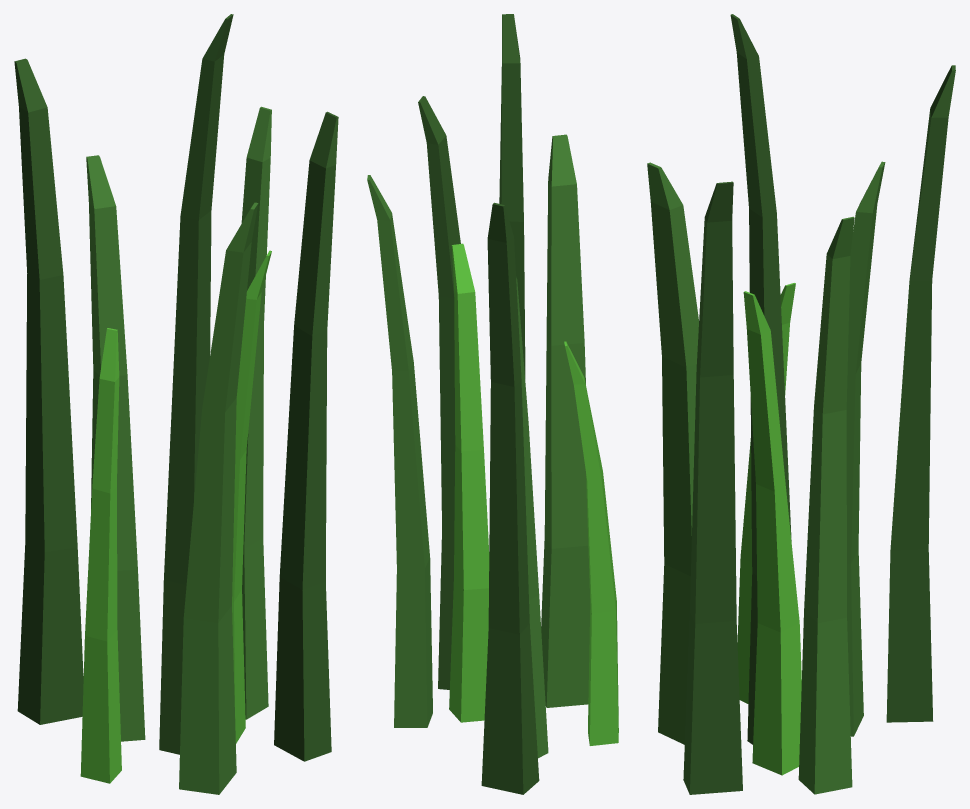
Rendered from grass_3.fbx.
The picture shows the model from 3 angles, left to right: view 1: azimuth 30°, elevation 25°; view 2: azimuth 150°, elevation 25°; view 3: azimuth 270°, elevation 25°; orthographic projection. The views are drawn at different scales.
Parts seen in each view (by area): view 1: grass_3; view 2: grass_3; view 3: grass_3.
Part boxes in pixels (x1,y1,x2,y2): grass_3: [14, 14, 338, 794]; grass_3: [367, 14, 618, 794]; grass_3: [647, 14, 955, 794].
Bounding box in the file's own units: 73.84 × 223 × 84.22.
